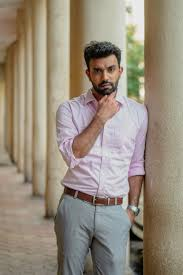Indian_Male: (84, 55, 120, 95)
